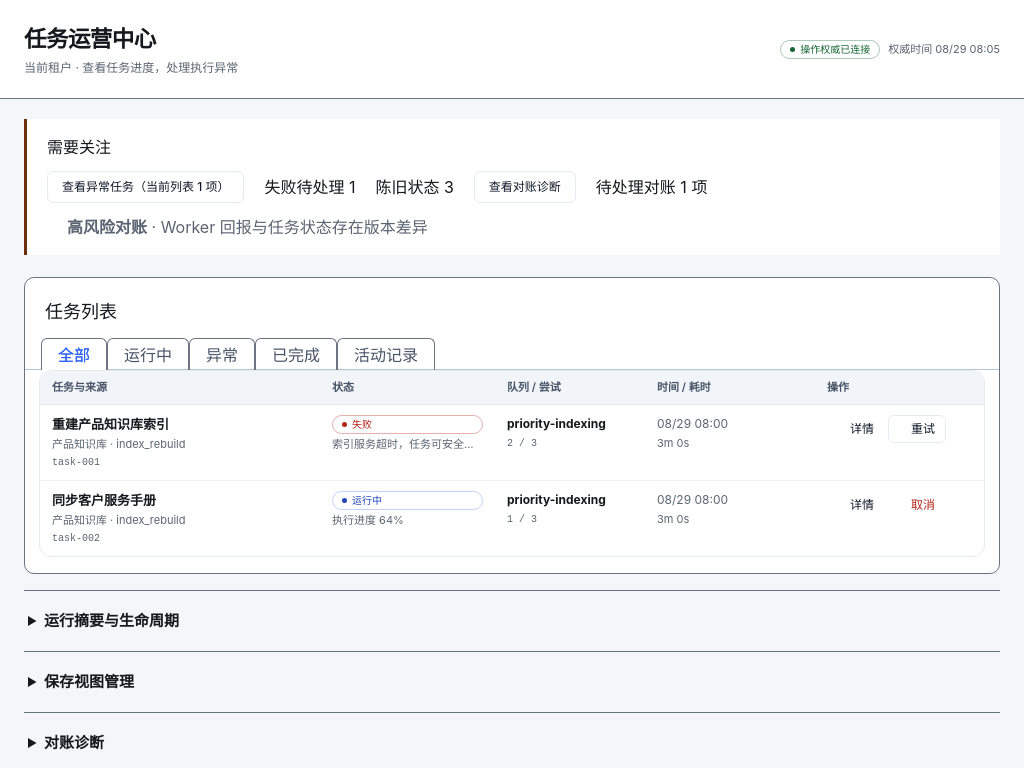
Stage 24 TaskOperationsCenter › opens the event drawer and returns focus after Escape
Click the button with aria-label "查看 重建产品知识库索引 详情" at [856, 428], box [827,414,885,442]
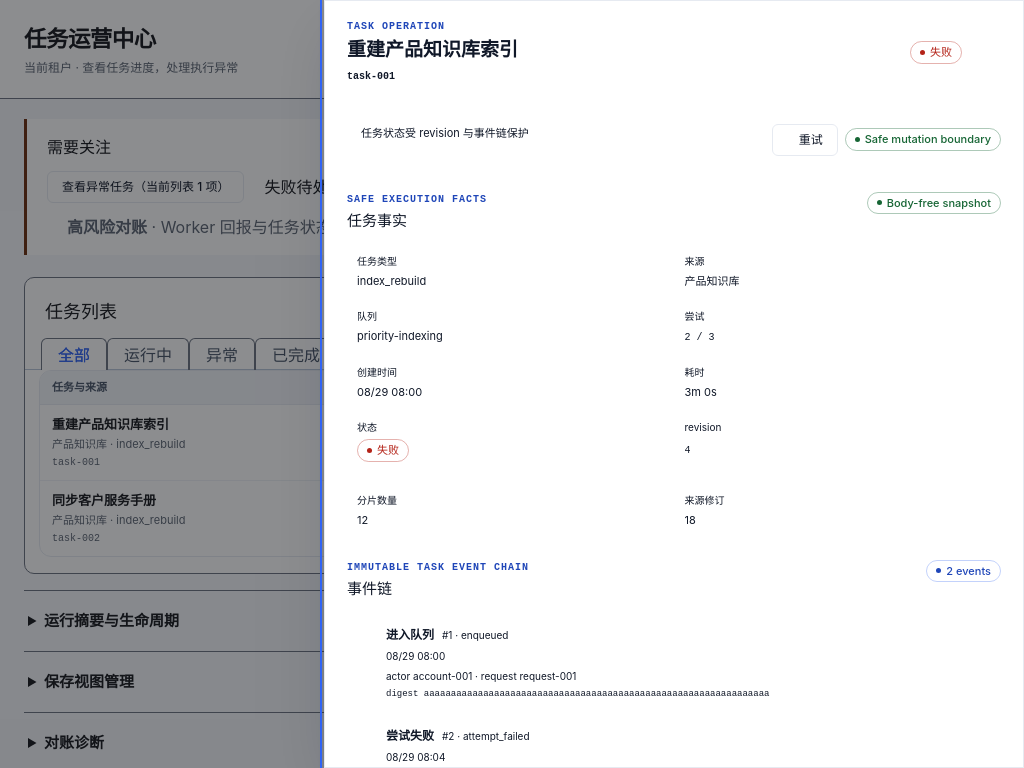
Expected: the dialog named "任务详情与事件链" is shown
Expected: the text "Immutable task event chain" is shown, [347,560,529,576]
Expected: the text "#2 · attempt_failed" is shown, [442,728,530,744]
Press Escape
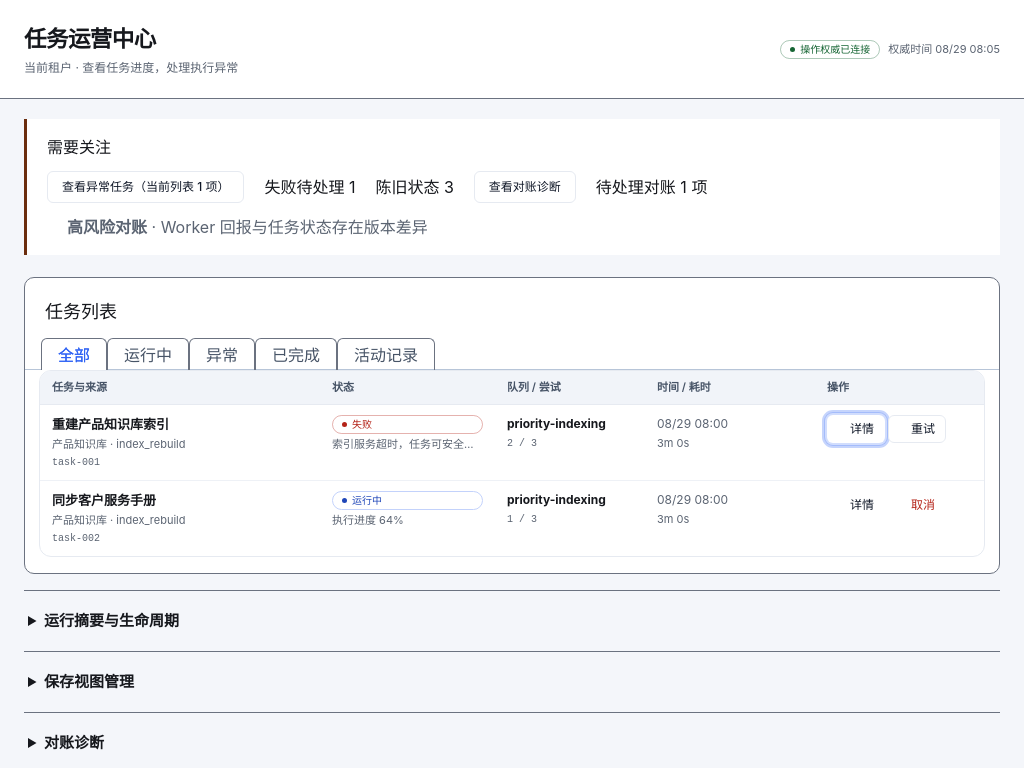
Expected: the dialog "任务详情与事件链" is gone
